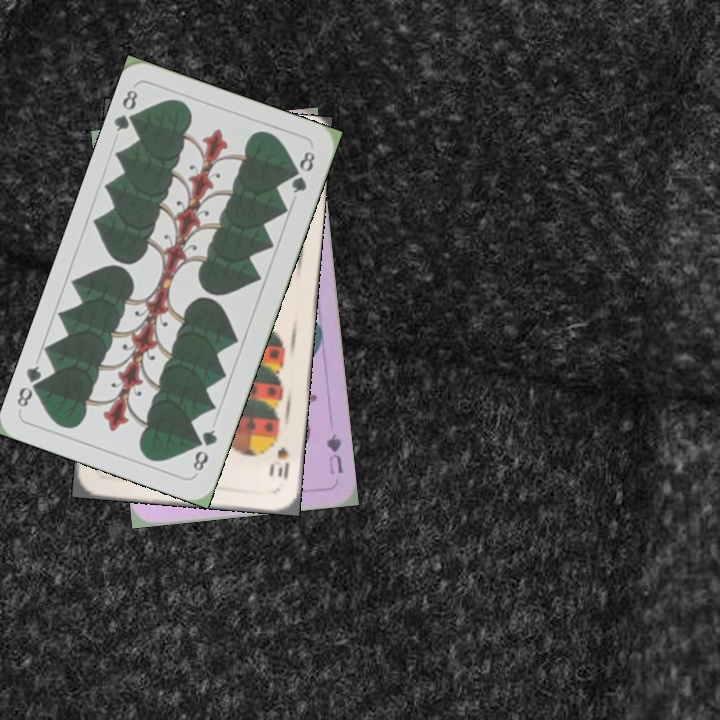G8: (110, 85, 144, 134), (189, 425, 220, 474)
GU: (322, 430, 345, 477)
S10: (273, 443, 292, 483)
